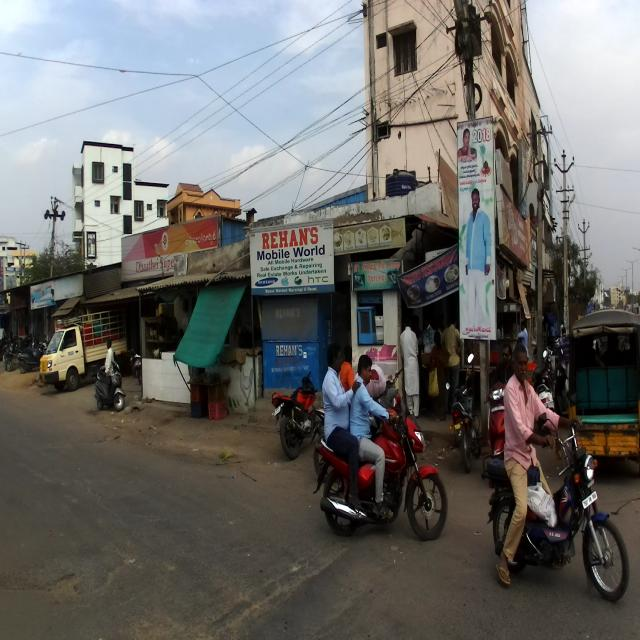motorcycle ahead at: (483, 417, 632, 601), (316, 418, 447, 542), (274, 376, 318, 458)
